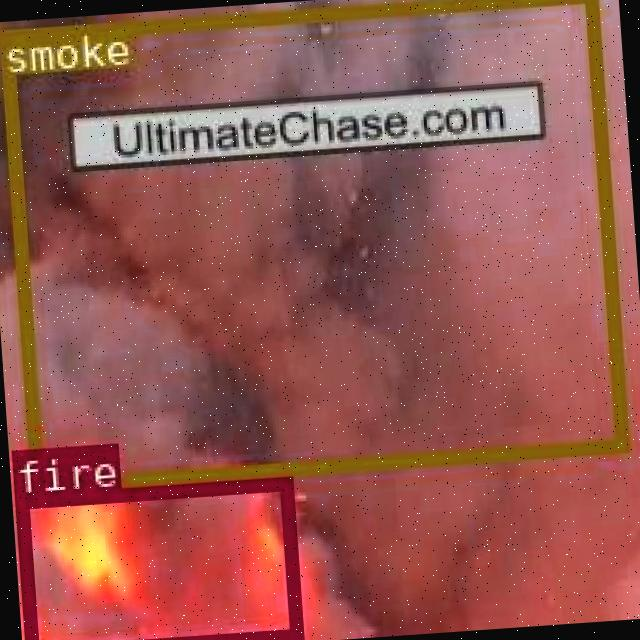fire: (12, 475, 301, 640)
smoke: (0, 0, 625, 491)
